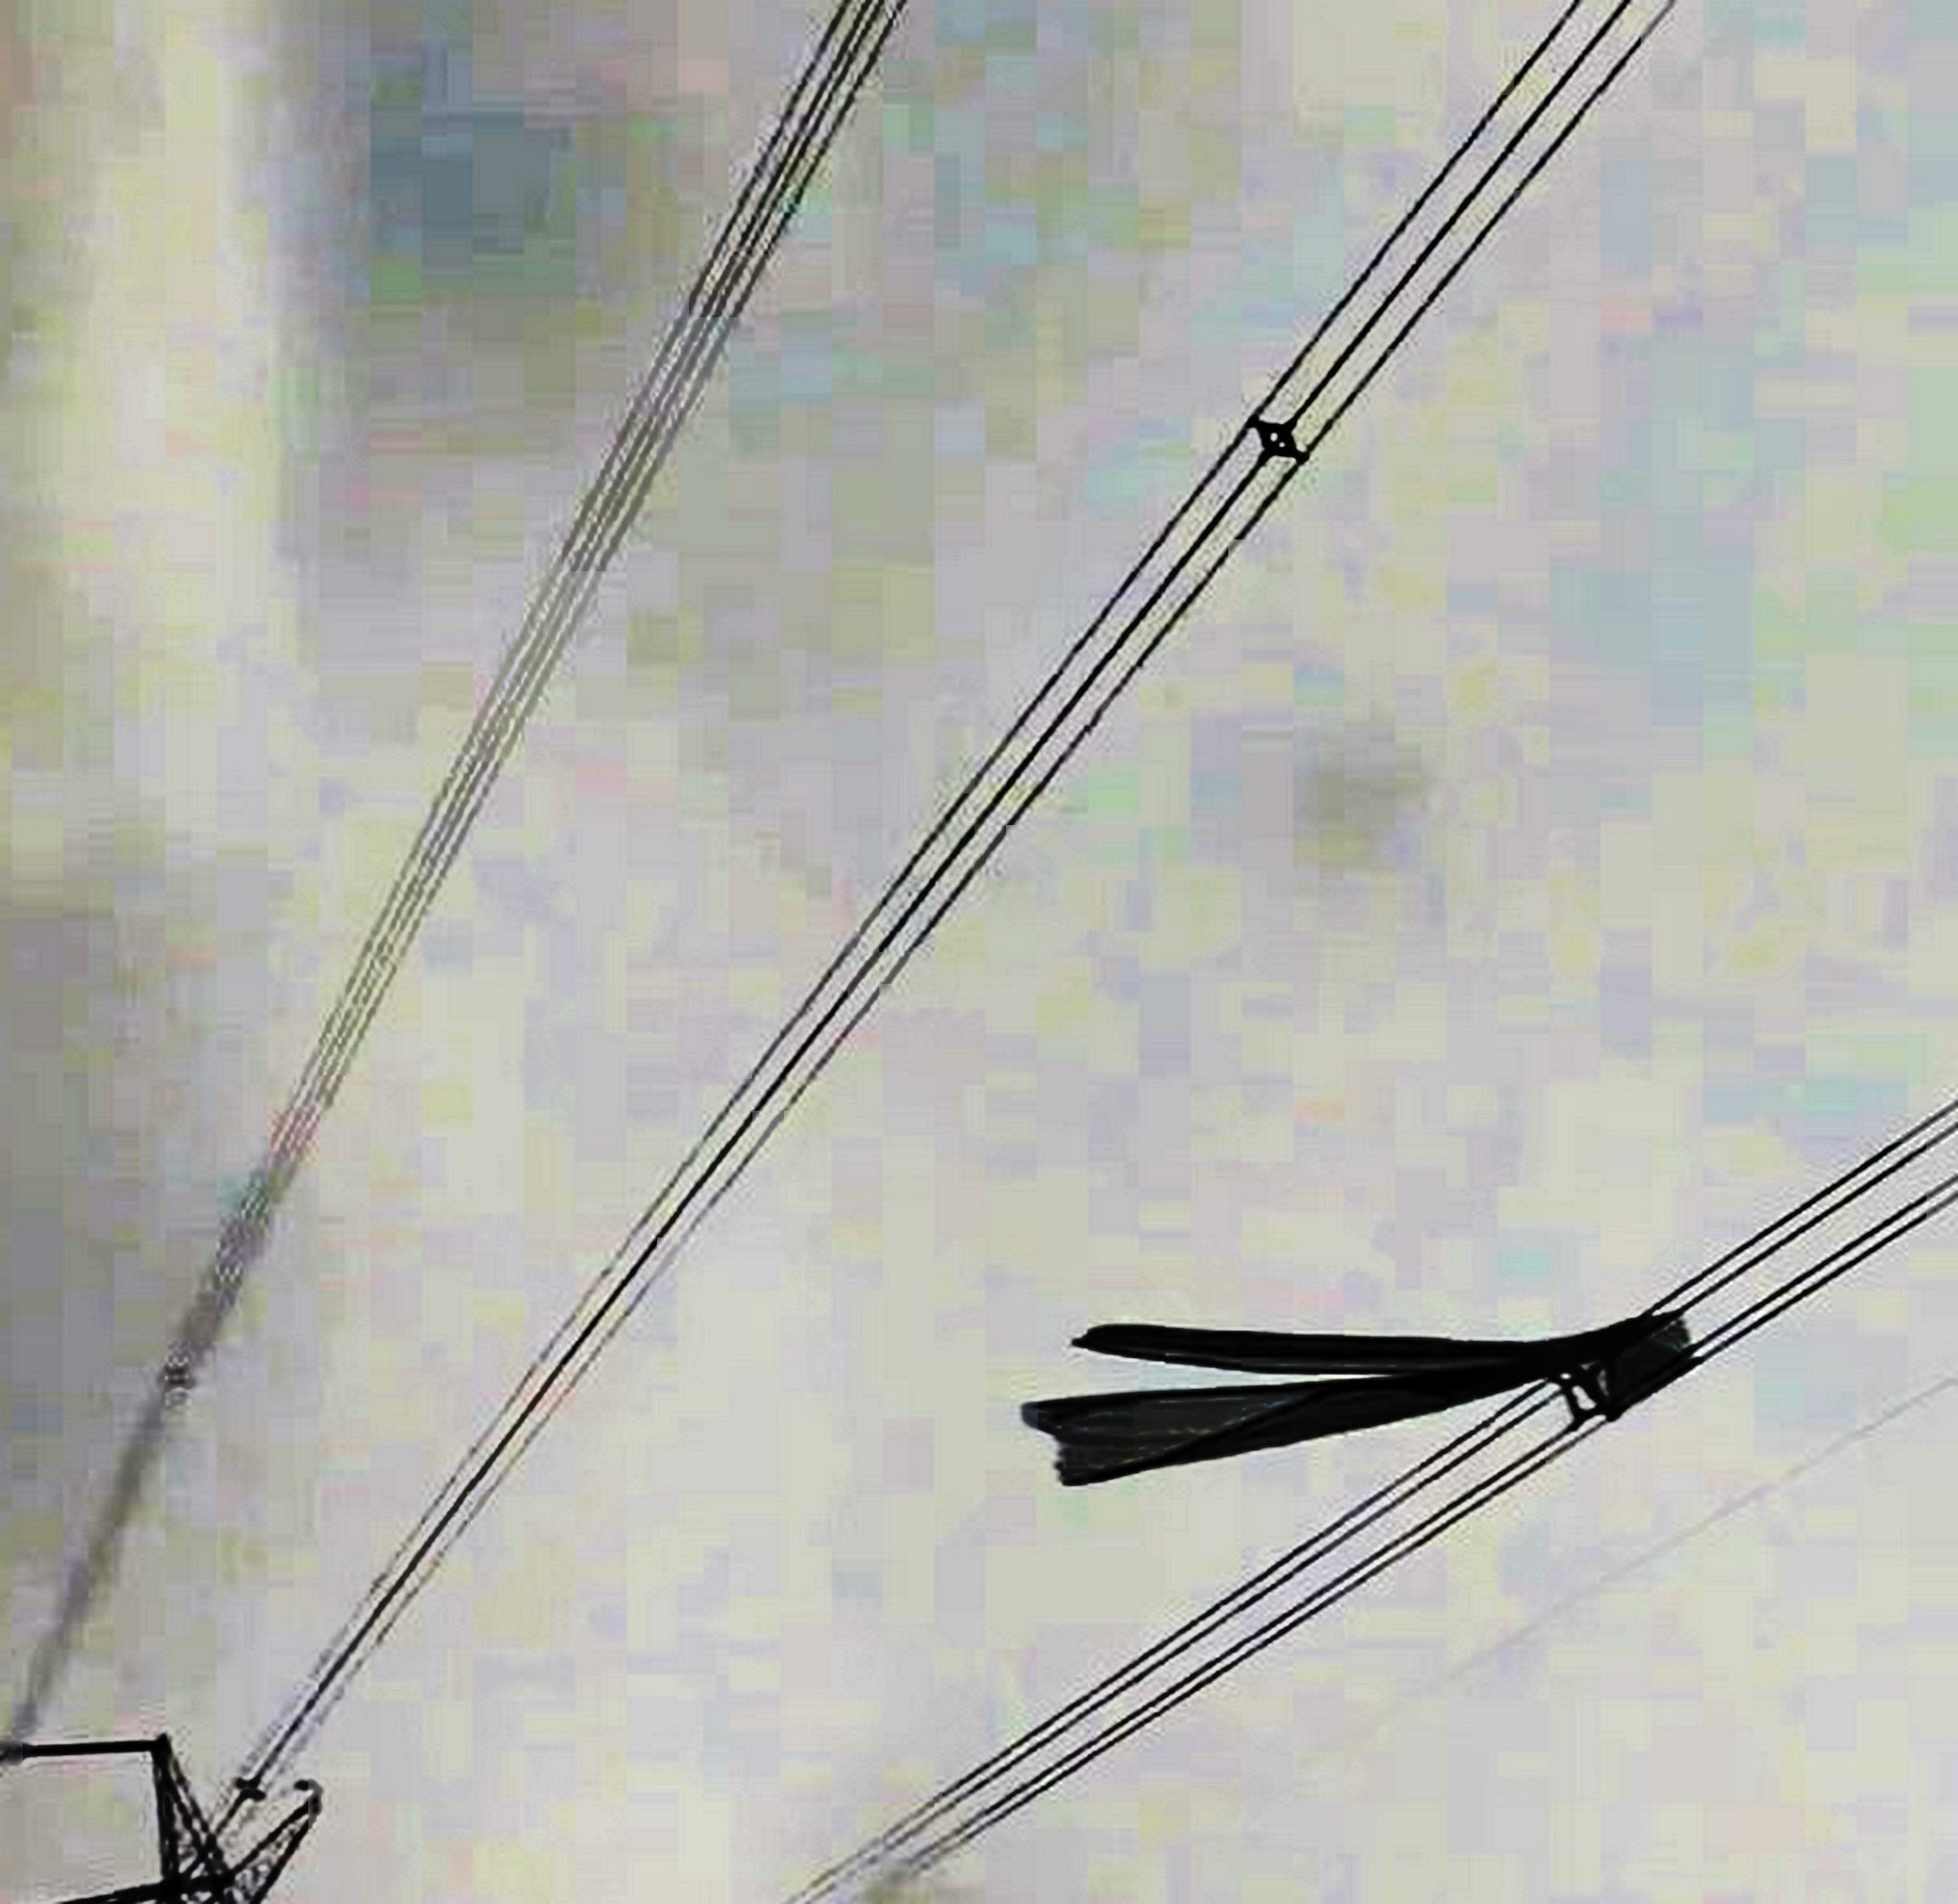wire foreign body: (1024, 1275, 1752, 1516)
